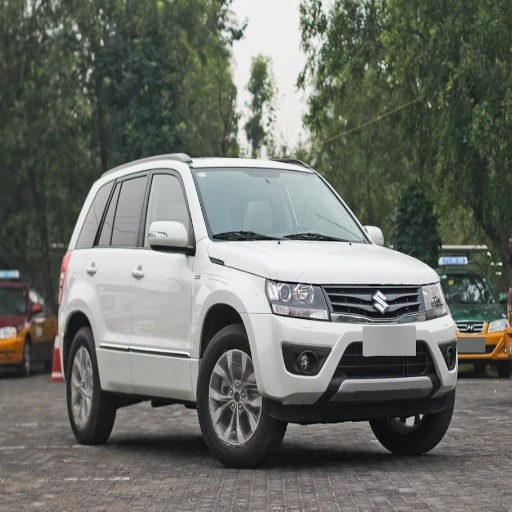front_bumper: (247, 283, 456, 411)
front_right_door: (131, 167, 195, 387)
front_right_light: (266, 282, 330, 320)
hood: (217, 242, 439, 284)
